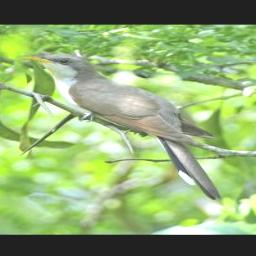Cuckoo: (20, 53, 223, 199)
